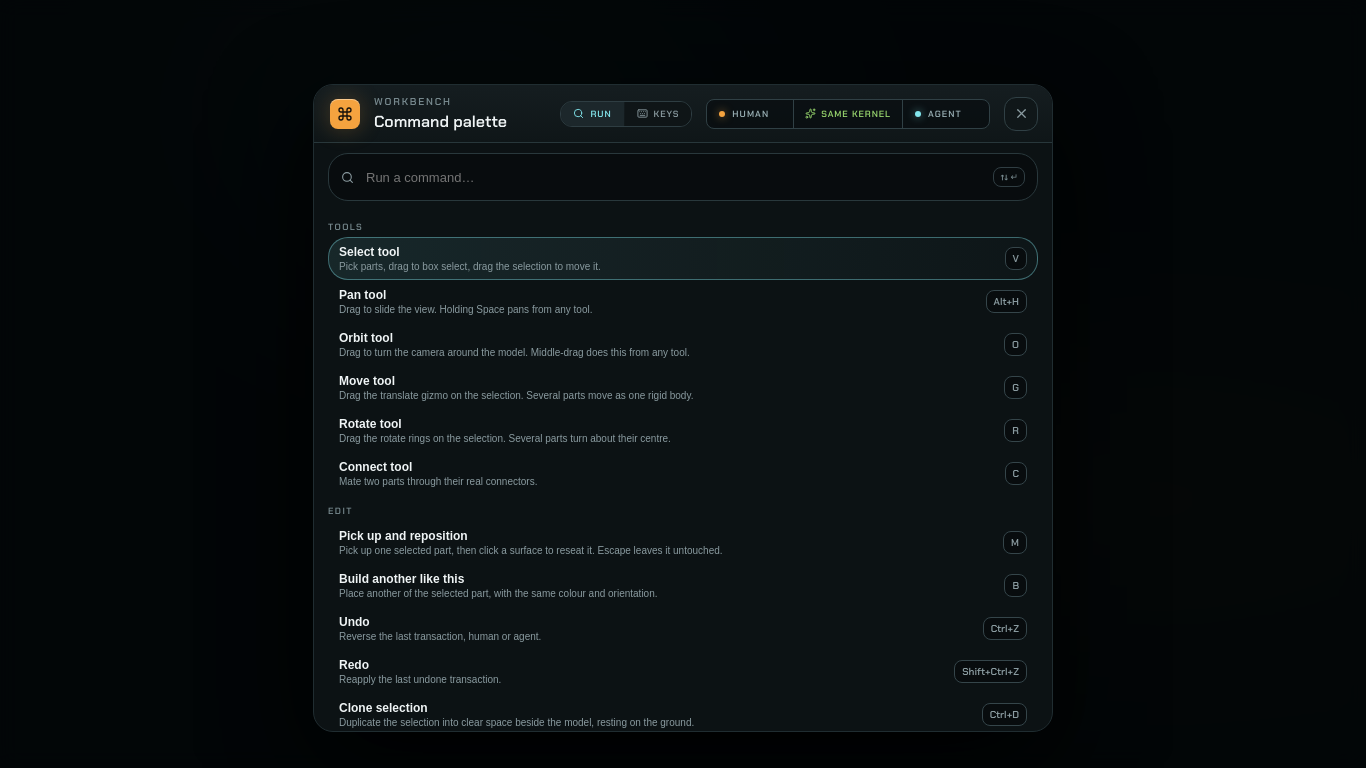
Test: command palette › filters commands by name and by keyword, ranking the titled match first
Type "isolate" into the dropdown named "Search commands".
click(674, 177); type("isolate")  # box [364,168,983,186]
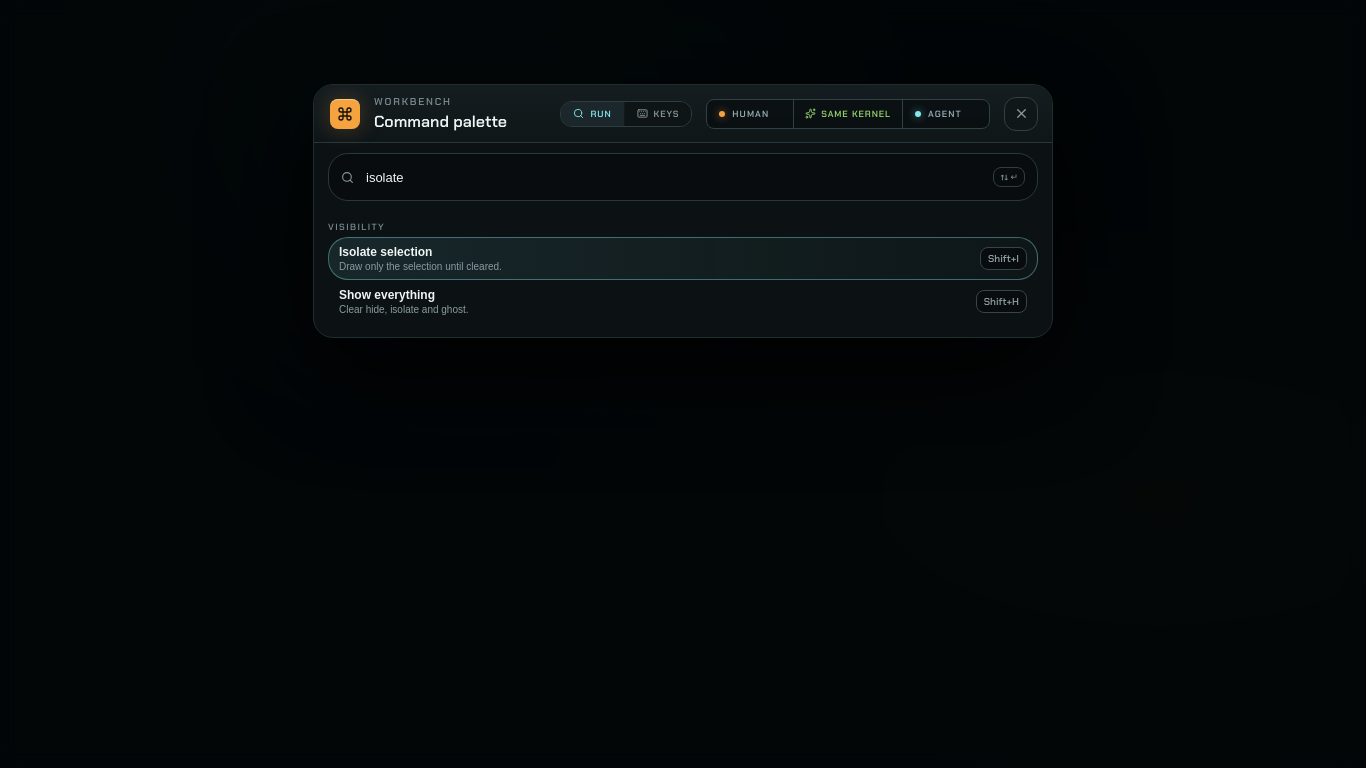
Check: the option with aria-label "Draw only the selection until cleared." shows "Isolate selection", box [328,237,1038,280]
Replace the text in the dropdown named "Search commands" with "eyedropper" at point(674, 177), box [364,168,983,186]
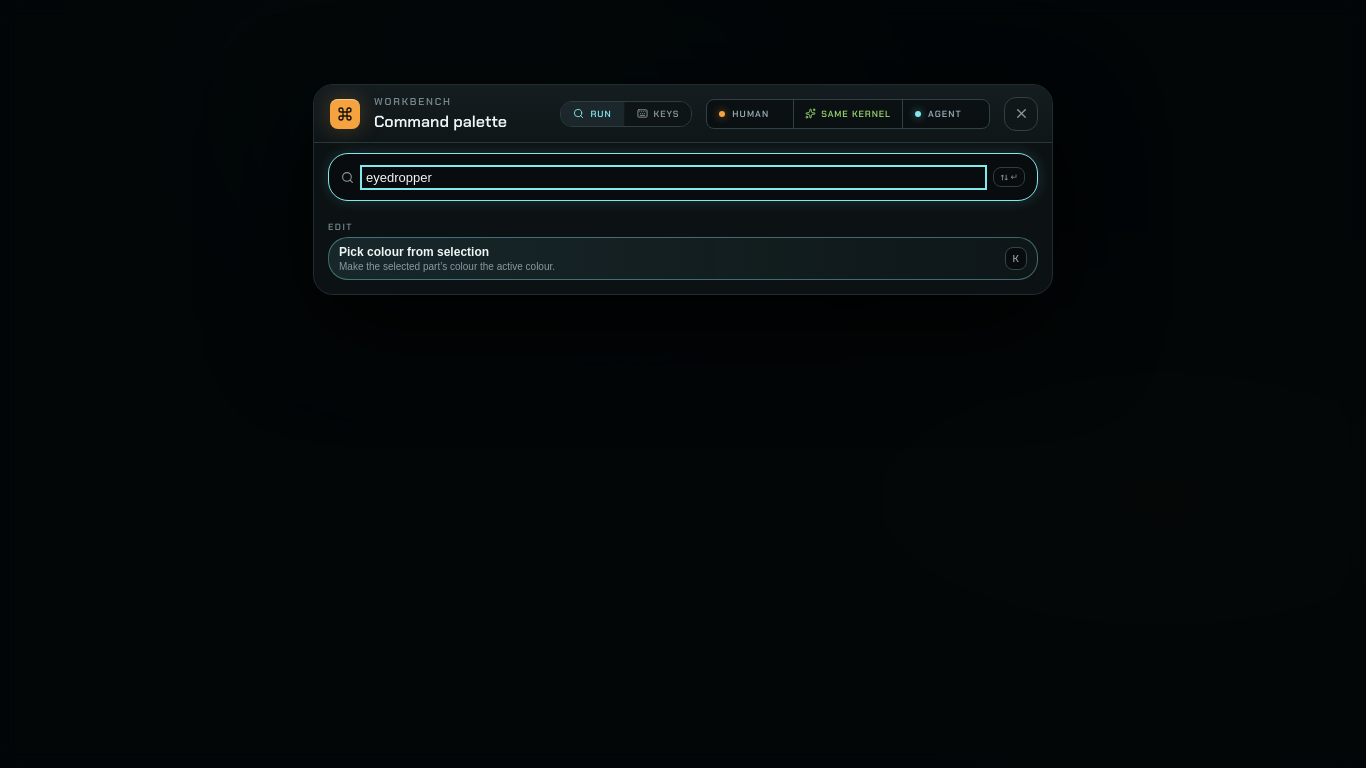
Check: the option shows "Pick colour", box [328,237,1038,280]
